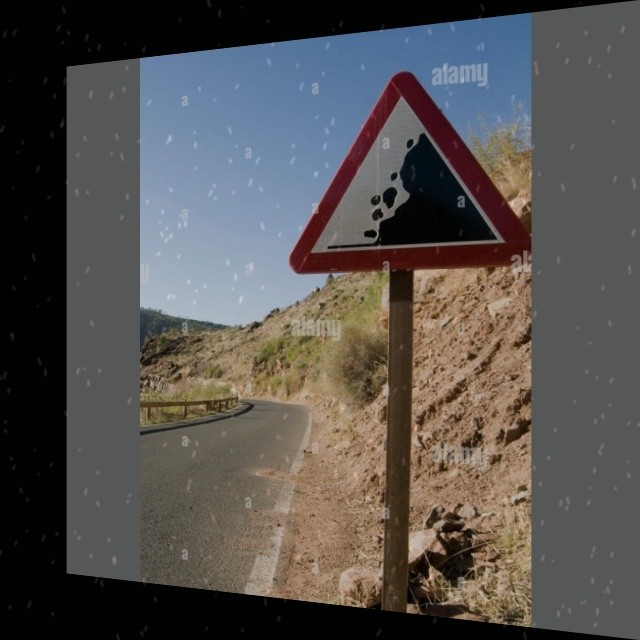Falling_Rocks: (315, 65, 517, 261)
